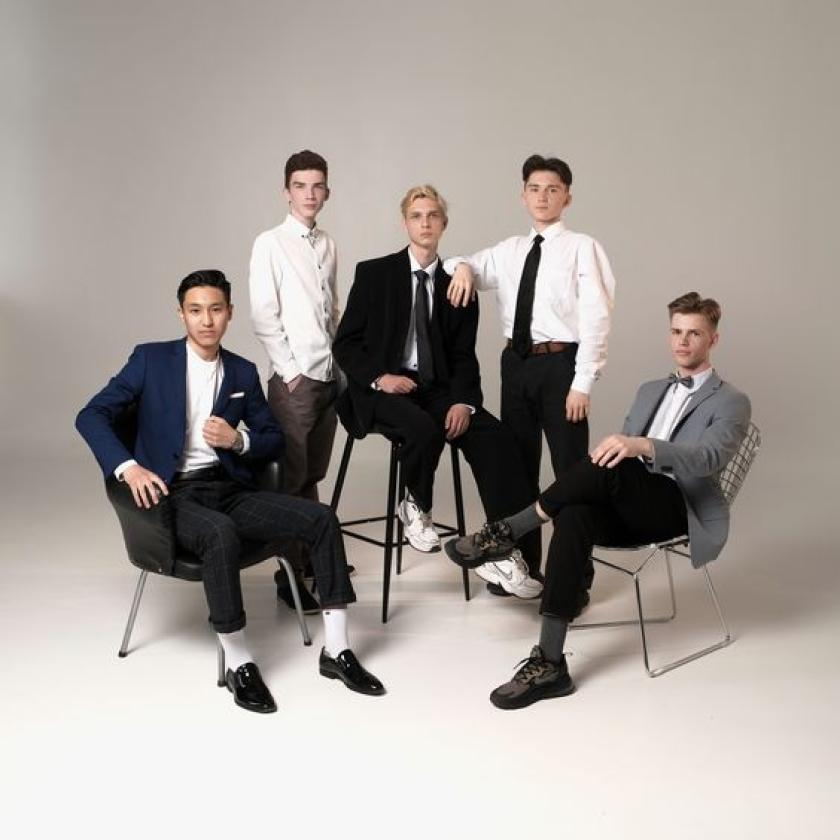Sin_casco: (175, 269, 240, 354), (665, 288, 726, 372), (282, 148, 339, 228), (519, 153, 576, 232), (400, 182, 455, 262)
